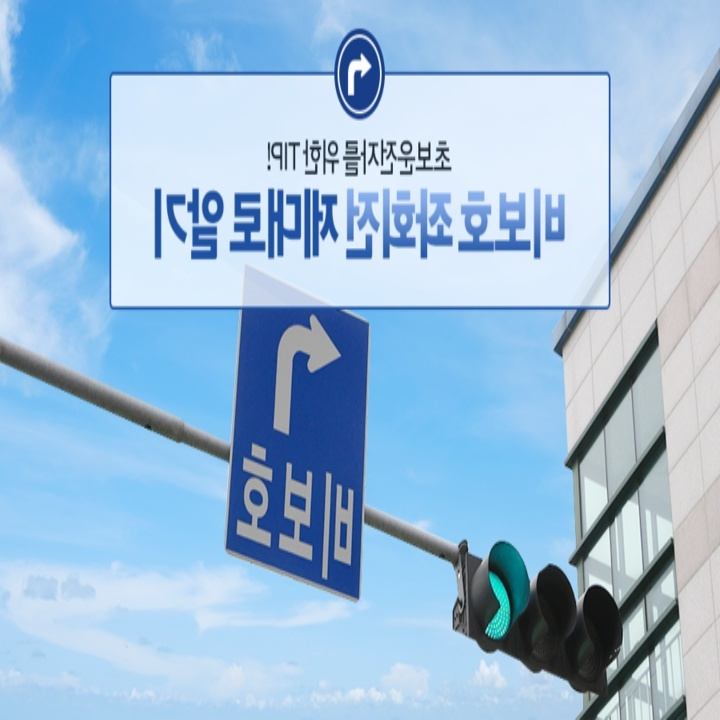right: (265, 305, 346, 437), (342, 51, 373, 97)
